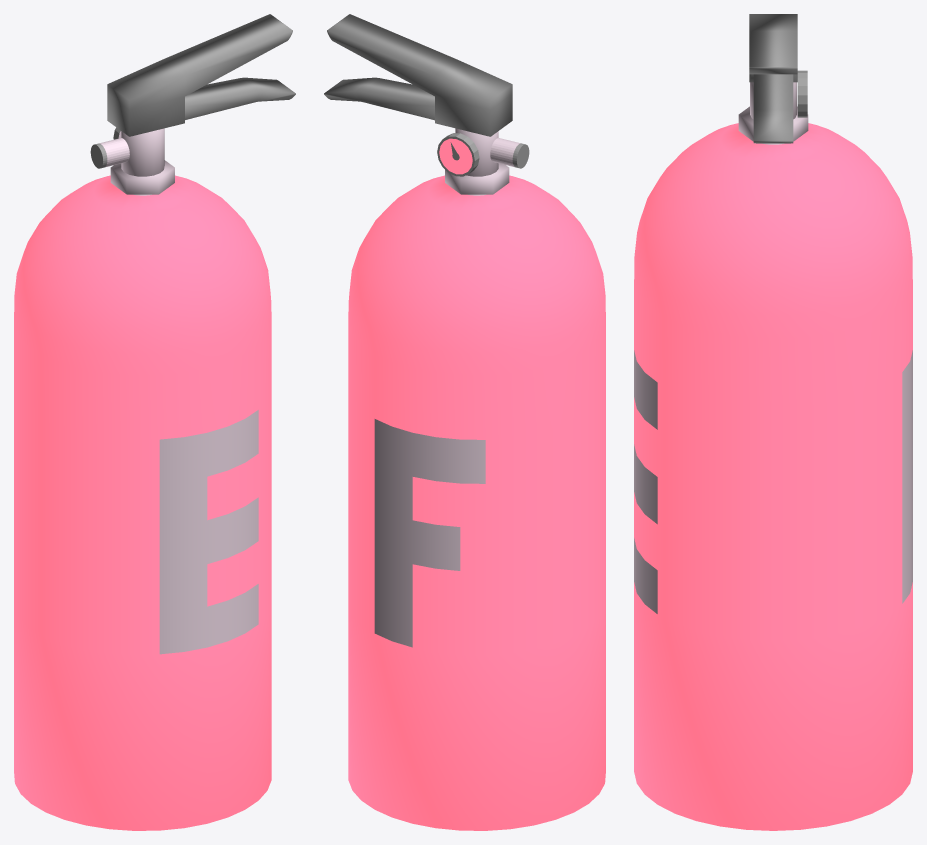
The model's file is notdoneyet02.glb.
3 views of the same model, side by side, from view 1: azimuth 30°, elevation 25°; view 2: azimuth 150°, elevation 25°; view 3: azimuth 270°, elevation 25° (orthographic). The views are drawn at different scales.
Parts seen in each view (by area): view 1: Cylinder; view 2: Cylinder; view 3: Cylinder.
Part boxes in pixels (<box>): Cylinder: <box>14,14,295,830</box>; Cylinder: <box>324,14,605,830</box>; Cylinder: <box>634,14,912,830</box>.
Bounding box in the file's own units: 0.686 × 1.85 × 0.6.
